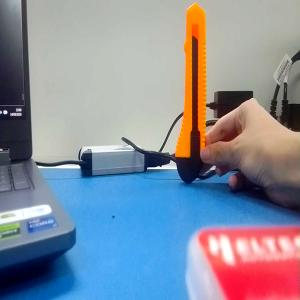estilete: (175, 3, 208, 184)
